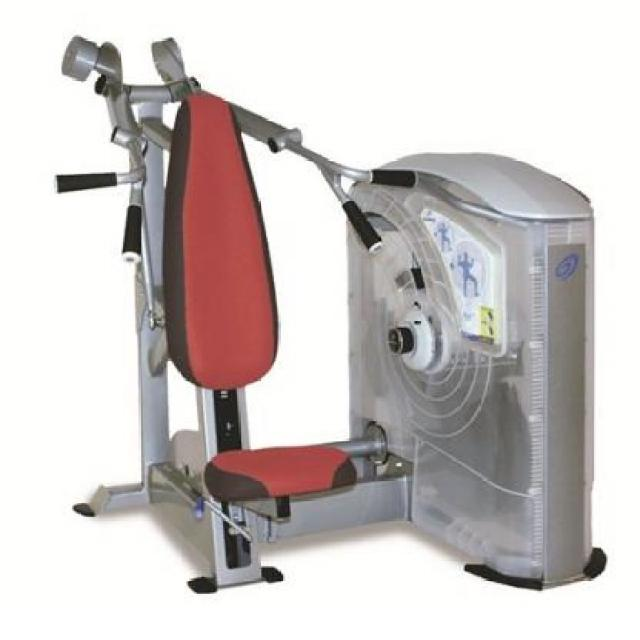shoulder press machine: (29, 18, 626, 628)
